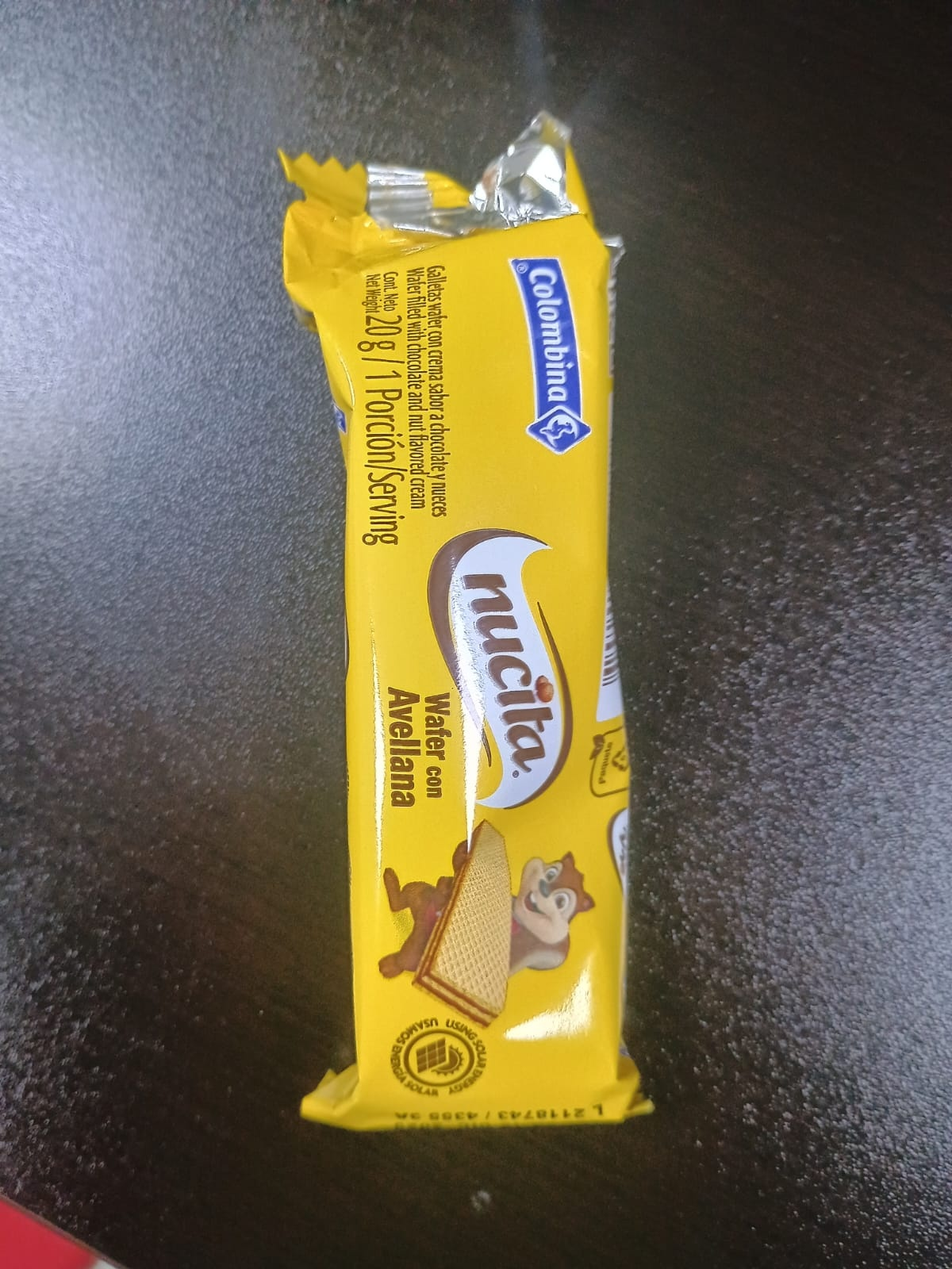Ordinario: (276, 110, 653, 1134)
